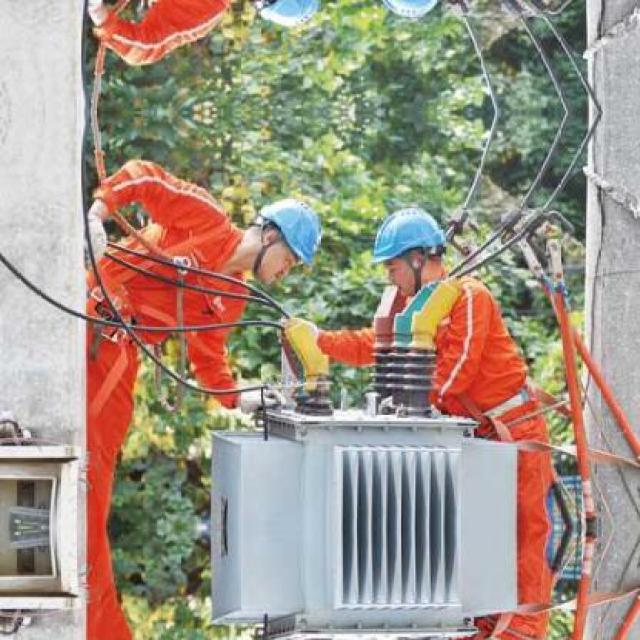helmet: (362, 200, 447, 294), (246, 197, 323, 270), (246, 0, 325, 28), (362, 0, 448, 25)
